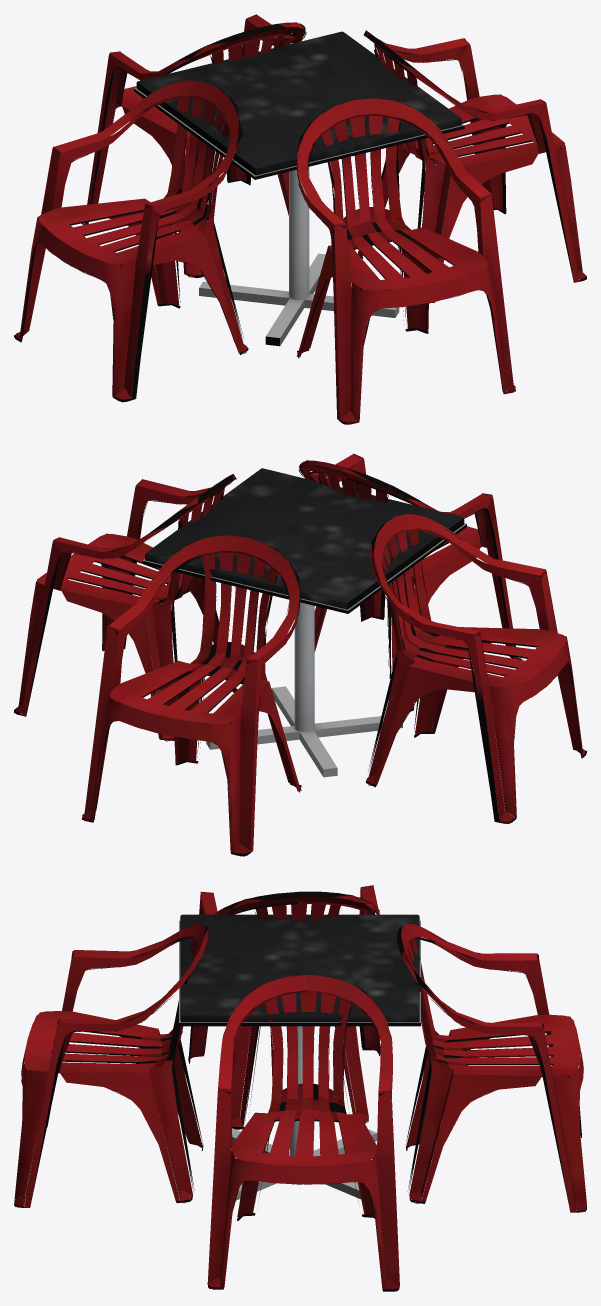
Rendered from cafe_table_set.glb.
The picture shows the model from 3 angles, top to bottom: view 1: azimuth 30°, elevation 25°; view 2: azimuth 150°, elevation 25°; view 3: azimuth 270°, elevation 25°; orthographic projection.
Visible parts, largest first — view 1: cafe_table_set; view 2: cafe_table_set; view 3: cafe_table_set.
Boxes of the visible parts, x1,y1,x2,y2 form: cafe_table_set: (14,14,586,424); cafe_table_set: (14,453,586,856); cafe_table_set: (14,885,586,1291).
Size of the model in its own units: 1.92 by 0.8811 by 1.92.
1 material, 1 textured.
